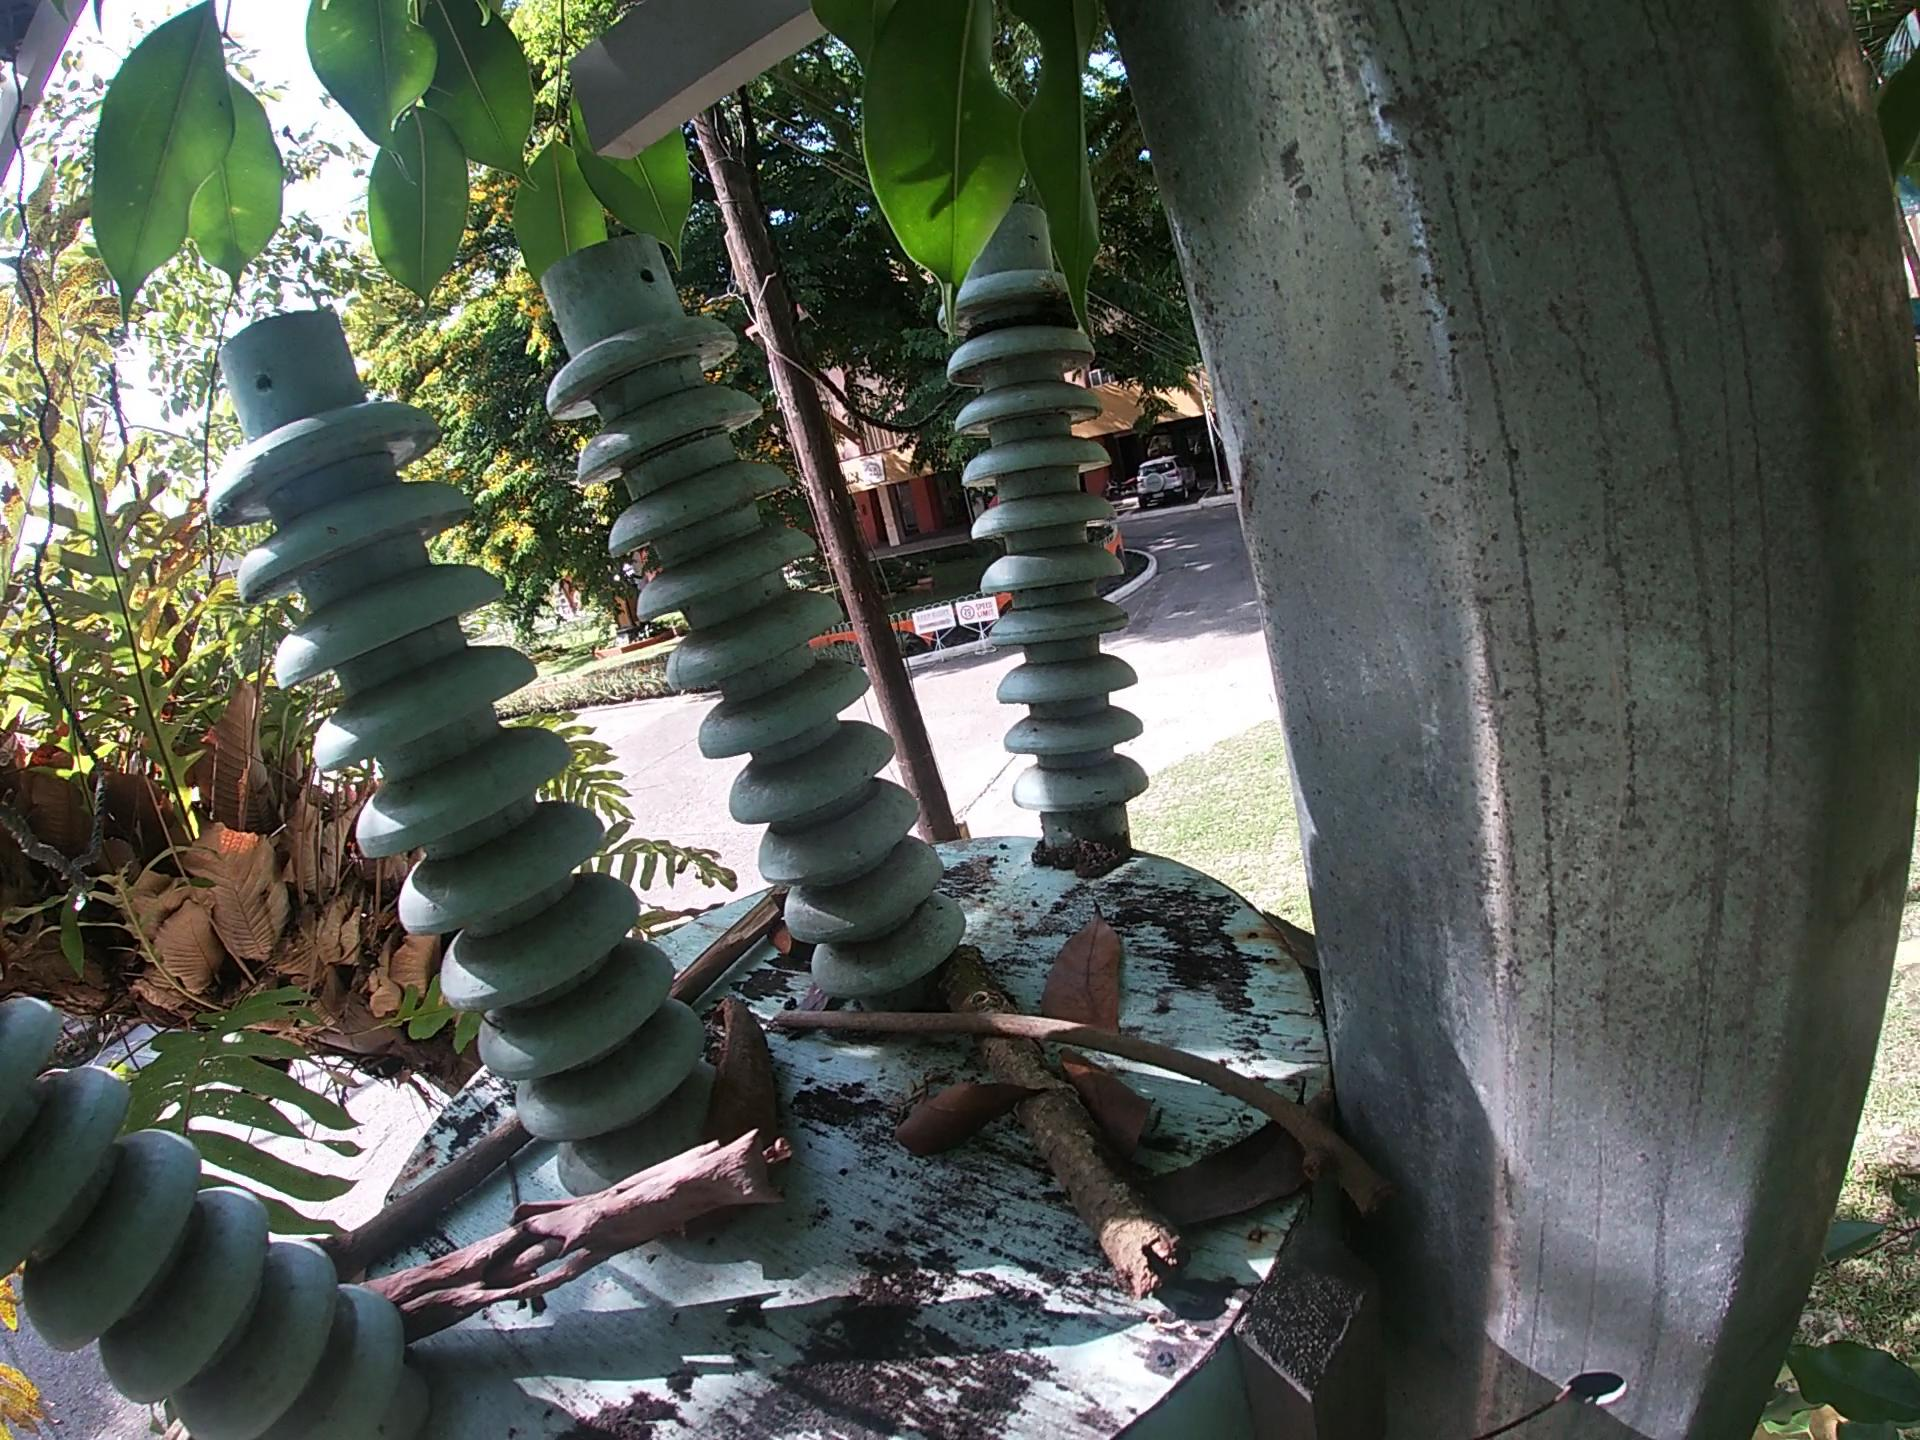leaf: (1131, 1072, 1315, 1233), (883, 1072, 1058, 1162), (1051, 1041, 1163, 1168), (1030, 902, 1134, 1036)
mahogany fruit: (671, 992, 789, 1249)
tree branch: (766, 1001, 1400, 1224), (342, 1125, 807, 1352), (931, 944, 1188, 1311), (311, 1115, 538, 1289), (665, 888, 789, 1004)
